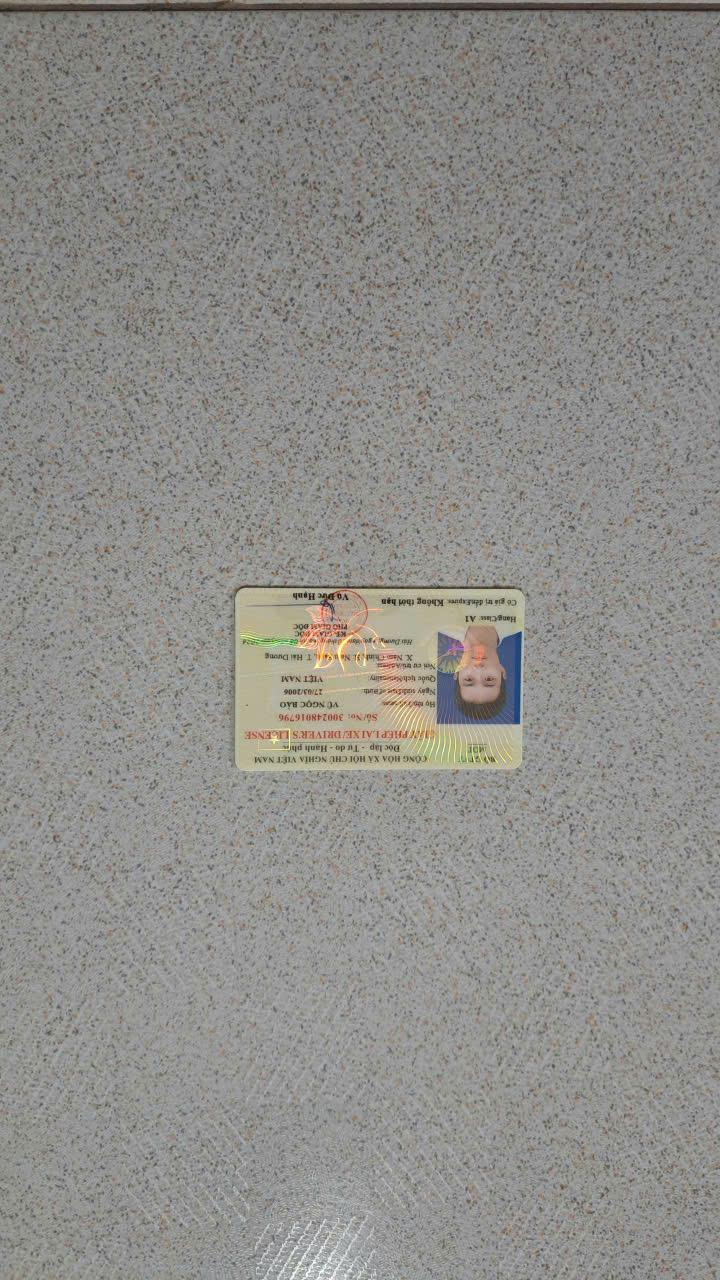gplx: (230, 583, 530, 780)
